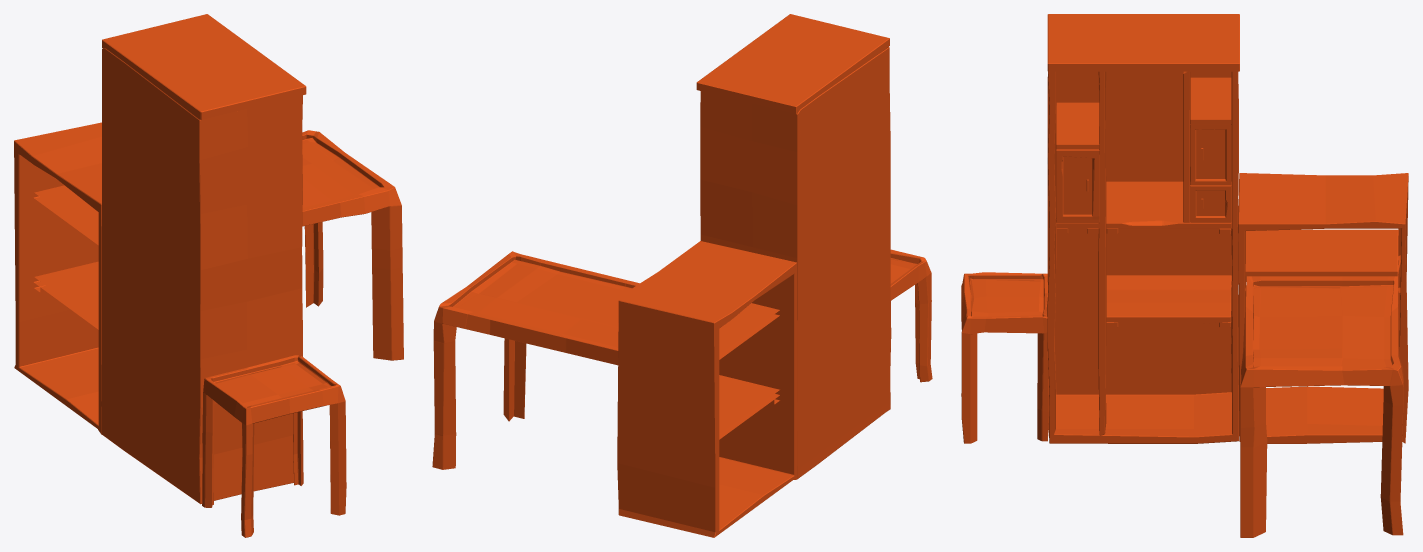
Rendered from Desk_and_Shelves.fbx.
The picture shows the model from 3 angles, left to right: view 1: azimuth 30°, elevation 25°; view 2: azimuth 150°, elevation 25°; view 3: azimuth 270°, elevation 25°; orthographic projection. The views are drawn at different scales.
Parts seen in each view (by area): view 1: Desk_and_Shelves; view 2: Desk_and_Shelves; view 3: Desk_and_Shelves.
Boxes of the visible parts, left/top/right/bottom form: Desk_and_Shelves: left=14, top=14, right=403, bottom=537; Desk_and_Shelves: left=432, top=14, right=932, bottom=537; Desk_and_Shelves: left=961, top=14, right=1408, bottom=537.
Bounding box in the file's own units: 1.37 × 1.71 × 1.81.
